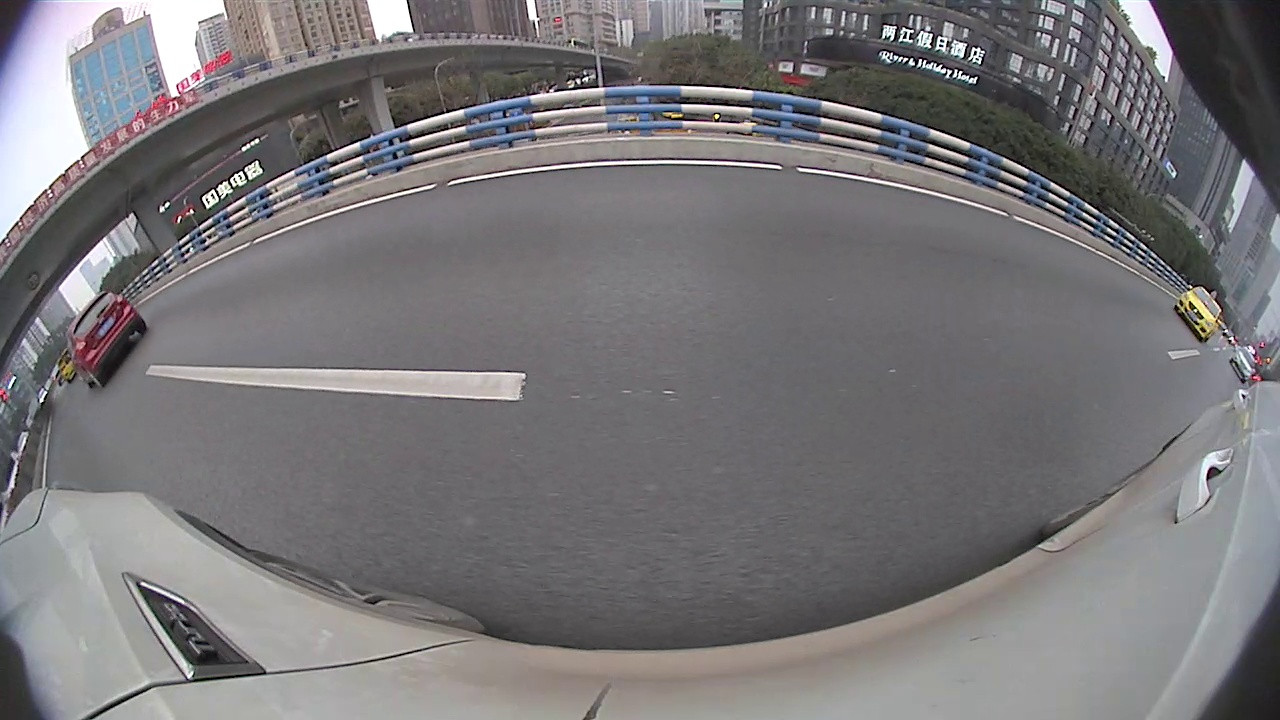car: (69, 289, 145, 390), (1172, 284, 1223, 342)
rear: (84, 369, 104, 387)
